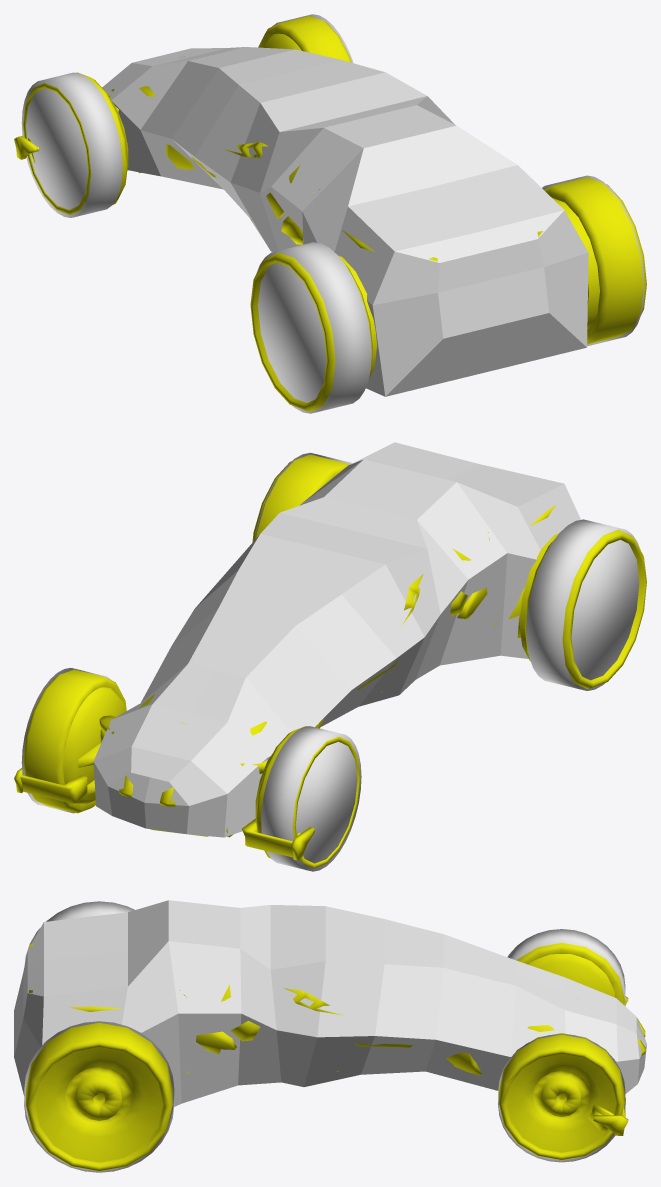
File: Futuristic_Car_2.1_fbx.gltf
The picture shows the model from 3 angles, top to bottom: view 1: azimuth 30°, elevation 25°; view 2: azimuth 150°, elevation 25°; view 3: azimuth 270°, elevation 25°; orthographic projection. The views are drawn at different scales.
Visible parts, largest first — view 1: Car_Con_Box, Back_Wheel_Force_1_L, Front_Wheel_Force_1_L, Back_Wheel_Mesh_1_R, Back_Wheel_Mesh_1_L, Front_Steering_Mesh_2_R, Front_Wheel_Mesh_2_L, Car_Mesh, Back_Suspension_R, Back_Wheel_Force_1_R; view 2: Car_Con_Box, Back_Wheel_Force_1_L, Front_Wheel_Force_1_L, Front_Steering_Mesh_2_R, Front_Wheel_Mesh_1_R, Back_Wheel_Mesh_1_L, Back_Wheel_Mesh_1_R, Car_Mesh, Front_Wheel_Mesh_2_L, Front_Steering_Mesh_1_L, Back_Suspension_L; view 3: Car_Con_Box, Back_Wheel_Mesh_1_R, Front_Steering_Mesh_2_R, Car_Mesh, Front_Wheel_Force_1_L, Front_Steering_Mesh_1_L, Front_Wheel_Mesh_2_L, Back_Wheel_Force_1_R, Back_Wheel_Force_1_L, Front_Wheel_Force_1_R, Front_Wheel_Mesh_1_R.
Part boxes in pixels (x1=…): Car_Con_Box: x1=102, y1=47, x2=588, y2=396; Back_Wheel_Force_1_L: x1=257, y1=242, x2=371, y2=413; Front_Wheel_Force_1_L: x1=21, y1=72, x2=122, y2=217; Back_Wheel_Mesh_1_R: x1=544, y1=177, x2=646, y2=344; Back_Wheel_Mesh_1_L: x1=250, y1=252, x2=373, y2=411; Front_Steering_Mesh_2_R: x1=258, y1=16, x2=351, y2=62; Front_Wheel_Mesh_2_L: x1=23, y1=72, x2=127, y2=214; Car_Mesh: x1=109, y1=56, x2=543, y2=261; Back_Suspension_R: x1=552, y1=198, x2=599, y2=329; Back_Wheel_Force_1_R: x1=542, y1=175, x2=644, y2=346; Car_Con_Box: x1=93, y1=442, x2=580, y2=837; Back_Wheel_Force_1_L: x1=526, y1=519, x2=640, y2=690; Front_Wheel_Force_1_L: x1=261, y1=726, x2=361, y2=871; Front_Steering_Mesh_2_R: x1=23, y1=669, x2=126, y2=813; Front_Wheel_Mesh_1_R: x1=14, y1=687, x2=125, y2=803; Back_Wheel_Mesh_1_L: x1=524, y1=529, x2=646, y2=689; Back_Wheel_Mesh_1_R: x1=252, y1=454, x2=348, y2=542; Car_Mesh: x1=95, y1=491, x2=556, y2=837; Front_Wheel_Mesh_2_L: x1=255, y1=726, x2=360, y2=868; Front_Steering_Mesh_1_L: x1=242, y1=755, x2=314, y2=860; Back_Suspension_L: x1=519, y1=533, x2=558, y2=660; Car_Con_Box: x1=14, y1=900, x2=646, y2=1106; Back_Wheel_Mesh_1_R: x1=25, y1=1022, x2=172, y2=1171; Front_Steering_Mesh_2_R: x1=499, y1=1033, x2=624, y2=1160; Car_Mesh: x1=29, y1=943, x2=645, y2=1075; Front_Wheel_Force_1_L: x1=507, y1=929, x2=625, y2=1005; Front_Steering_Mesh_1_L: x1=528, y1=954, x2=628, y2=1006; Front_Wheel_Mesh_2_L: x1=517, y1=943, x2=624, y2=1004; Back_Wheel_Force_1_R: x1=24, y1=1021, x2=174, y2=1172; Back_Wheel_Force_1_L: x1=24, y1=901, x2=134, y2=964; Front_Wheel_Force_1_R: x1=498, y1=1034, x2=625, y2=1162; Front_Wheel_Mesh_1_R: x1=588, y1=1097, x2=628, y2=1135.
Bounding box in the file's own units: 3.65 × 2.24 × 6.98.
Materials: 4 (2 with a texture image).
